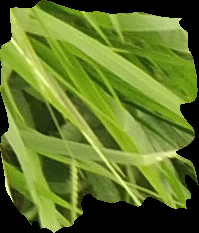grass: (1, 2, 198, 232)
